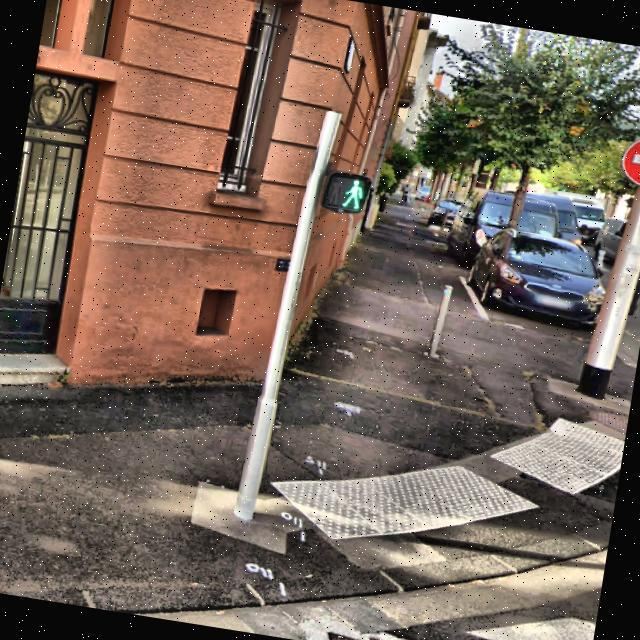green_light: (337, 172, 368, 214)
